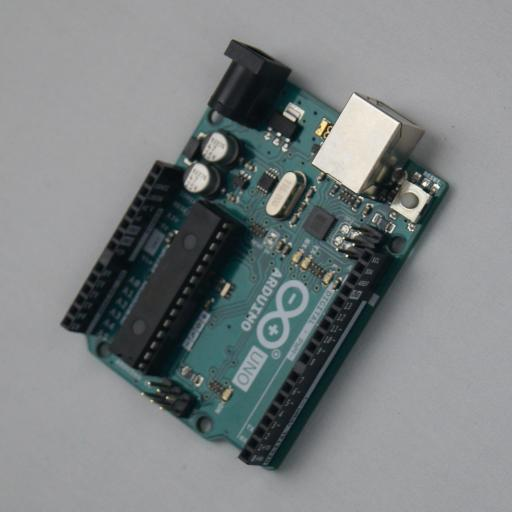RASPBERRY_PI_3B_PLUS: (60, 40, 452, 472)
